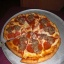basil: (13, 36, 19, 48), (27, 43, 33, 53), (43, 38, 47, 50)
beef: (42, 22, 54, 34), (32, 39, 41, 54), (27, 15, 35, 23)
pizza: (5, 13, 61, 63)
